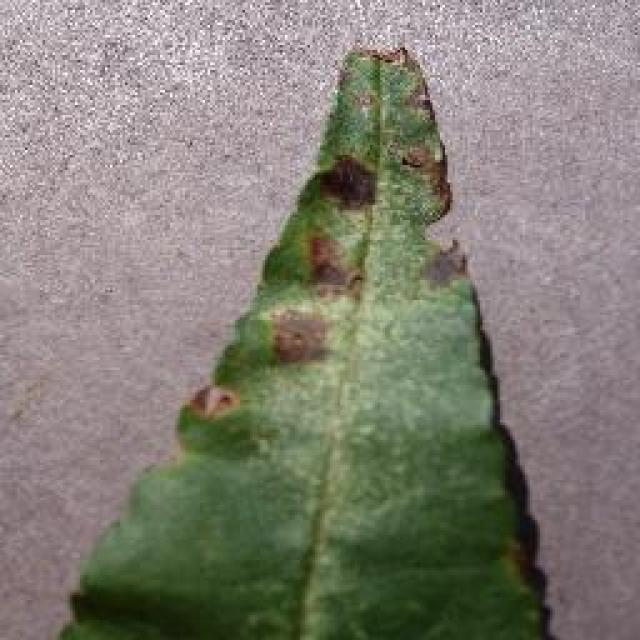Bacterial_spot: (266, 313, 350, 390), (310, 148, 394, 215), (184, 379, 248, 438), (309, 228, 361, 294), (408, 246, 461, 300), (391, 134, 436, 186)
